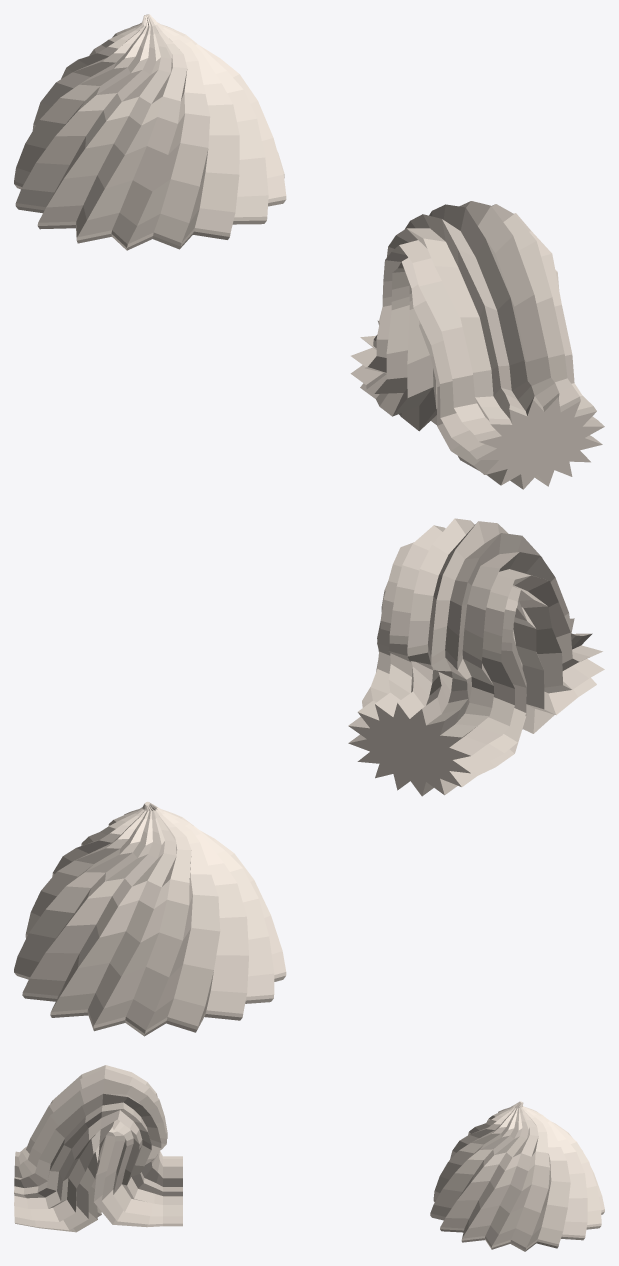
The model's file is cream.glb.
3 renders of one model, top to bottom at view 1: azimuth 30°, elevation 25°; view 2: azimuth 150°, elevation 25°; view 3: azimuth 270°, elevation 25°, orthographic. The views are drawn at different scales.
Parts seen in each view (by area): view 1: Cylinder.001, Cylinder; view 2: Cylinder.001, Cylinder; view 3: Cylinder.001, Cylinder.
Boxes of the visible parts, x1,y1,x2,y2 form: Cylinder.001: (350, 201, 604, 489); Cylinder: (14, 14, 286, 250); Cylinder.001: (348, 518, 604, 796); Cylinder: (14, 801, 286, 1036); Cylinder.001: (14, 1065, 182, 1232); Cylinder: (430, 1101, 604, 1251).
Size of the model in its own units: 0.7837 by 0.7637 by 2.65.
